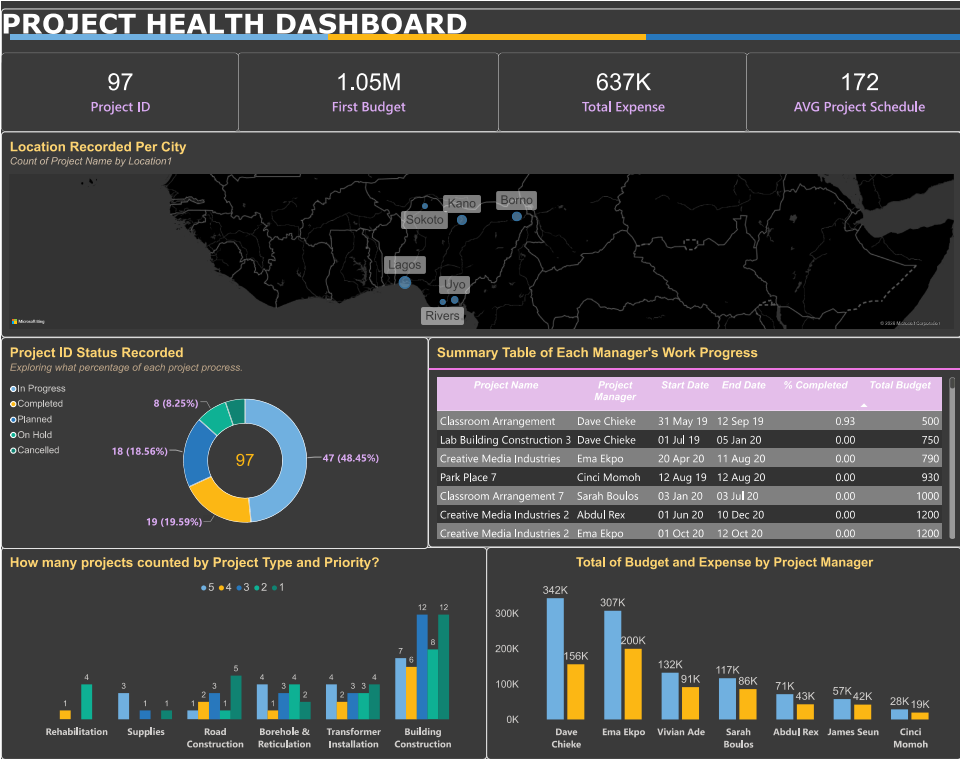

What the dashboard file says about the page in this screenshot:
{"tool":"powerbi","page":{"name":"Page 1","canvas":[1900,1500],"ordinal":0},"visuals":[{"type":"textbox","box":[0,0,1920,70],"z":0},{"type":"hundredPercentStackedBarChart","fields":{"Series":["Project Management Data.Overall Project Health"],"Y":["Project Management Data.#one"]},"box":[0,20,1920,110],"z":1000},{"type":"cardVisual","fields":{"Data":["Sum(Project Management Data.Budget)"]},"box":[467.3,102,518,156],"z":2000},{"type":"actionButton","box":[0,0,100,40],"z":3000},{"type":"cardVisual","fields":{"Data":["Count(Project Management Data.Project ID)"]},"box":[0,102,470,156],"z":4000},{"type":"cardVisual","fields":{"Data":["Sum(Project Management Data.Expense)"]},"box":[982.7,102,494,156],"z":5000},{"type":"cardVisual","fields":{"Data":["Avg(Project Management Data.Project Schedule)"]},"box":[1474,102,446,156],"z":6000},{"type":"map","title":"Location Recorded Per City","fields":{"Category":["Project Management Data.Location1"],"Size":["CountNonNull(Project Management Data.Project Name)"]},"box":[0,257.5,1900,407.5],"z":7000},{"type":"clusteredColumnChart","title":"How many projects counted by Project Type and Priority?","fields":{"Category":["Project Management Data.Project Type"],"Series":["Project Management Data.Priority1"],"Y":["CountNonNull(Project Management Data.Project Name)"]},"box":[0,1080.4,960.7,419.6],"z":8000},{"type":"donutChart","title":"Project ID Status Recorded","fields":{"Category":["Project Management Data.Status"],"Y":["CountNonNull(Project Management Data.Project Name)"]},"box":[0,665,845,417.5],"z":9000},{"type":"tableEx","title":"Summary Table of Each Manager''s Work Progress","fields":{"Values":["Project Management Data.Project Name","Project Management Data.Project Manager","Project Management Data.Start Date","Project Management Data.End Date","Sum(Project Management Data.% Complete)","Sum(Project Management Data.Budget)"]},"box":[845,665,1057.5,415],"z":10000},{"type":"clusteredColumnChart","title":"Total of Budget and Expense by Project Manager","fields":{"Category":["Project Management Data.Project Manager"],"Y":["Sum(Project Management Data.Budget)","Sum(Project Management Data.Expense)"]},"box":[960,1080,940,420],"z":11000}]}

Visuals, with their boxes in screenshot pixels (x1, y1, x2, y2), scaled from the page's 1900x1500 canvas onto the 960x759 screenshot:
textbox: (x1=0, y1=0, x2=959, y2=35)
hundredPercentStackedBarChart - Project Management Data.Overall Project Health x Project Management Data.#one: (x1=0, y1=10, x2=959, y2=66)
cardVisual - Sum(Project Management Data.Budget): (x1=236, y1=52, x2=498, y2=131)
actionButton: (x1=0, y1=0, x2=51, y2=20)
cardVisual - Count(Project Management Data.Project ID): (x1=0, y1=52, x2=237, y2=131)
cardVisual - Sum(Project Management Data.Expense): (x1=497, y1=52, x2=746, y2=131)
cardVisual - Avg(Project Management Data.Project Schedule): (x1=745, y1=52, x2=959, y2=131)
"Location Recorded Per City" map: (x1=0, y1=130, x2=959, y2=336)
"How many projects counted by Project Type and Priority?" clusteredColumnChart: (x1=0, y1=547, x2=485, y2=758)
"Project ID Status Recorded" donutChart: (x1=0, y1=336, x2=427, y2=548)
"Summary Table of Each Manager''s Work Progress" tableEx: (x1=427, y1=336, x2=959, y2=546)
"Total of Budget and Expense by Project Manager" clusteredColumnChart: (x1=485, y1=546, x2=959, y2=758)
